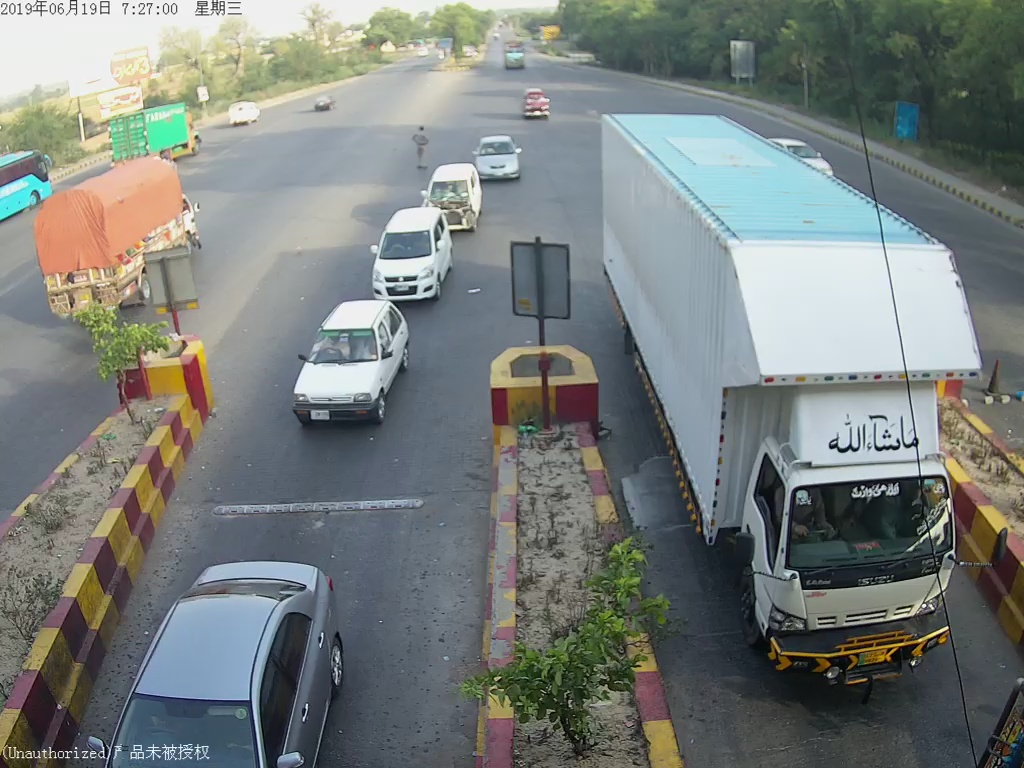Cat-1: (290, 307, 410, 424), (364, 209, 445, 298), (422, 167, 483, 219), (471, 131, 526, 174)
Cat-4: (596, 113, 983, 686)
